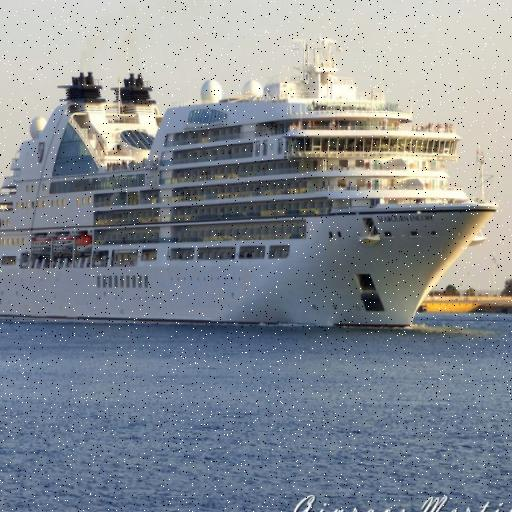cruises: (1, 32, 500, 338)
